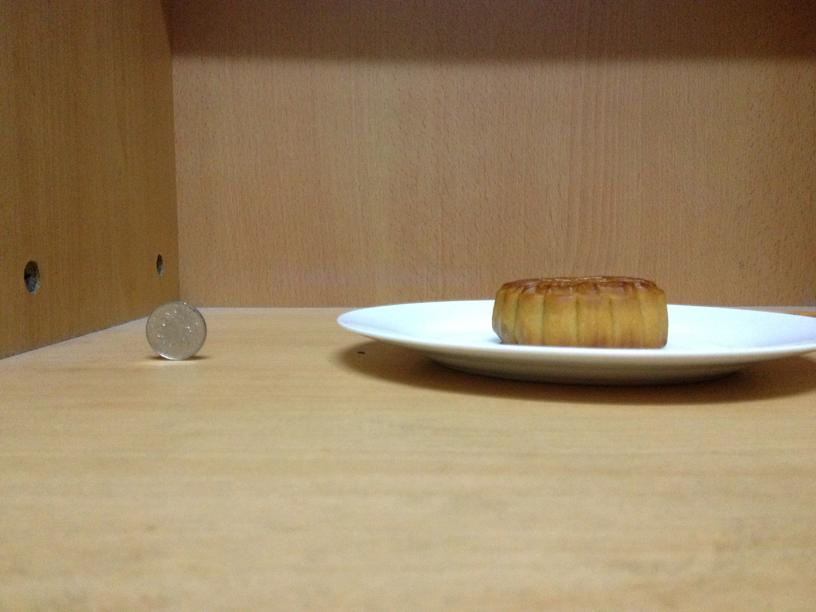coin: (146, 300, 206, 359)
mooncake: (493, 277, 669, 345)
